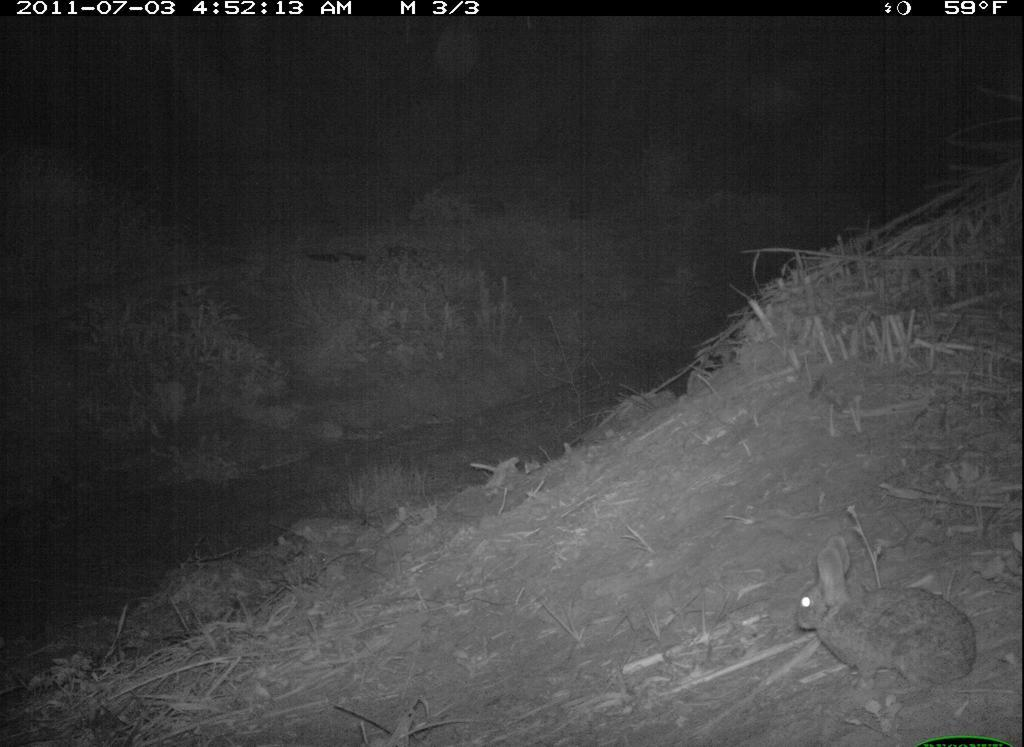rabbit: (781, 527, 1000, 719)
